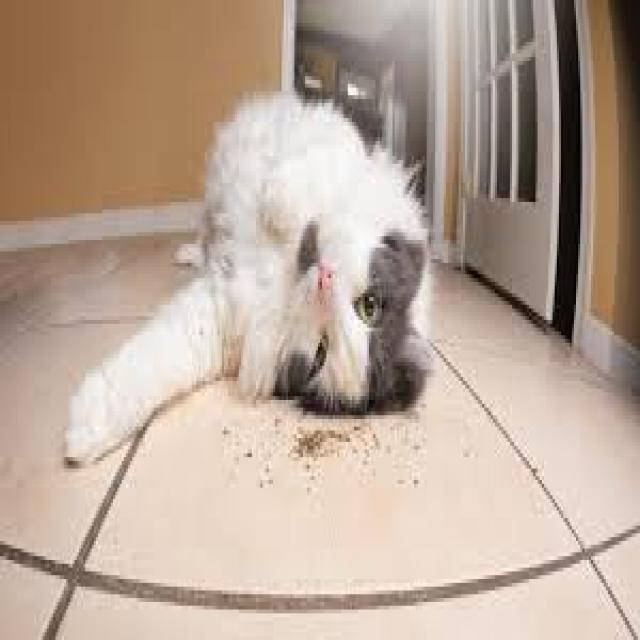cat: (55, 76, 436, 471)
